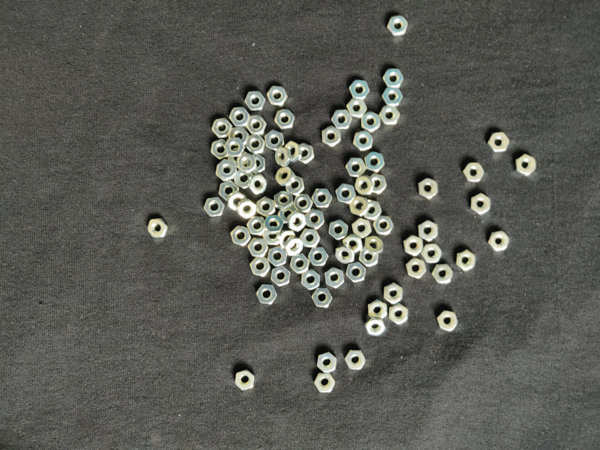nut: (387, 15, 409, 37), (516, 154, 537, 176), (488, 132, 510, 153), (345, 350, 367, 371), (204, 197, 226, 218), (489, 231, 510, 252), (355, 175, 376, 196), (373, 215, 394, 236), (290, 254, 311, 275), (275, 109, 296, 130), (212, 118, 233, 139), (148, 218, 169, 239), (432, 264, 454, 284), (419, 220, 439, 242), (419, 178, 439, 200), (384, 283, 404, 305), (318, 352, 338, 374), (314, 373, 336, 393), (325, 267, 345, 289), (265, 129, 285, 151), (248, 173, 268, 195), (464, 163, 485, 183), (456, 250, 476, 271), (438, 311, 458, 332), (422, 244, 443, 264), (404, 235, 424, 256), (407, 258, 427, 279), (389, 304, 409, 325), (235, 370, 255, 391), (365, 152, 385, 173), (347, 98, 368, 118), (346, 158, 367, 178), (336, 184, 356, 205), (353, 218, 373, 239), (360, 247, 380, 268), (347, 262, 367, 283), (343, 234, 364, 254), (329, 220, 349, 241), (312, 288, 333, 308), (312, 188, 333, 208), (305, 210, 326, 230), (267, 86, 288, 106), (271, 266, 291, 287), (257, 285, 278, 305), (248, 238, 269, 258), (231, 226, 252, 246), (247, 115, 267, 136), (245, 91, 266, 111), (230, 107, 251, 127), (219, 181, 240, 201), (224, 137, 245, 157), (364, 199, 383, 221), (302, 269, 321, 291), (350, 80, 370, 100), (332, 109, 352, 129), (350, 197, 370, 217), (284, 237, 304, 257), (251, 257, 271, 277), (237, 200, 257, 220), (229, 127, 249, 147), (472, 194, 491, 215), (365, 318, 386, 337), (362, 112, 381, 133), (354, 131, 373, 152), (323, 126, 342, 147), (300, 229, 321, 248), (308, 248, 329, 267), (263, 215, 284, 234), (370, 173, 388, 195), (285, 141, 303, 163), (368, 300, 388, 319), (384, 69, 404, 88), (383, 87, 403, 106), (365, 236, 385, 255), (336, 244, 355, 264), (294, 194, 314, 213), (286, 175, 305, 195), (269, 247, 288, 267), (228, 191, 247, 211), (238, 153, 257, 173), (229, 148, 248, 168), (218, 159, 237, 179), (288, 211, 306, 232), (381, 106, 400, 125), (276, 167, 295, 186), (247, 217, 266, 236), (247, 155, 266, 174), (247, 135, 266, 154), (263, 227, 283, 245), (257, 197, 275, 217), (235, 169, 253, 189), (211, 139, 229, 159), (298, 143, 315, 164), (275, 192, 293, 211), (279, 206, 297, 224), (279, 230, 296, 249), (275, 147, 291, 167)
